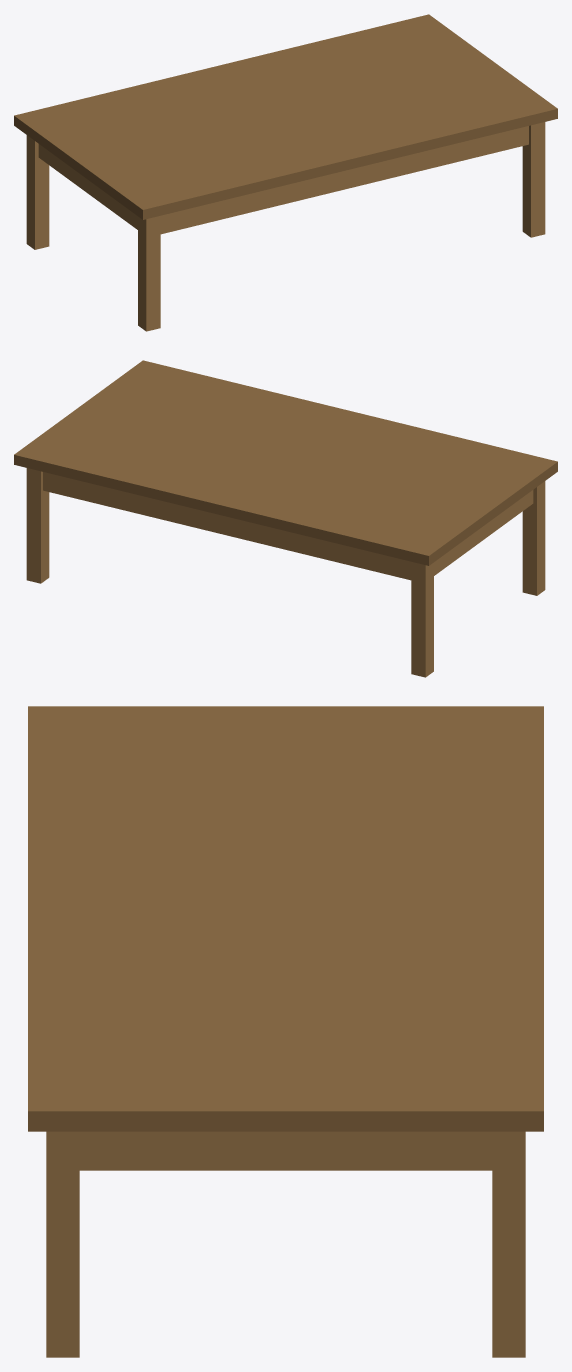
File: HIN-COF-long.glb
The picture shows the model from 3 angles, top to bottom: view 1: azimuth 30°, elevation 25°; view 2: azimuth 150°, elevation 25°; view 3: azimuth 270°, elevation 25°; orthographic projection. The views are drawn at different scales.
Visible parts, largest first — view 1: top:pbr, apron-f:pbr, leg-fl:pbr, leg-fr:pbr, leg-bl:pbr, apron-l:pbr; view 2: top:pbr, apron-b:pbr, leg-bl:pbr, leg-br:pbr, leg-fl:pbr, apron-l:pbr; view 3: top:pbr, apron-r:pbr, leg-fr:pbr, leg-br:pbr.
Boxes of the visible parts, x1,y1,x2,y2 form: top:pbr: [14, 14, 557, 219]; apron-f:pbr: [160, 126, 528, 234]; leg-fl:pbr: [138, 216, 160, 331]; leg-fr:pbr: [522, 122, 545, 237]; leg-bl:pbr: [26, 135, 49, 249]; apron-l:pbr: [38, 144, 137, 229]; top:pbr: [14, 360, 557, 565]; apron-b:pbr: [43, 472, 411, 580]; leg-bl:pbr: [411, 562, 433, 677]; leg-br:pbr: [26, 468, 49, 583]; leg-fl:pbr: [522, 481, 545, 595]; apron-l:pbr: [434, 490, 533, 575]; top:pbr: [28, 706, 543, 1131]; apron-r:pbr: [79, 1131, 492, 1170]; leg-fr:pbr: [46, 1131, 79, 1357]; leg-br:pbr: [492, 1131, 525, 1357].
Size of the model in its own units: 1.3 by 0.38 by 0.7.
